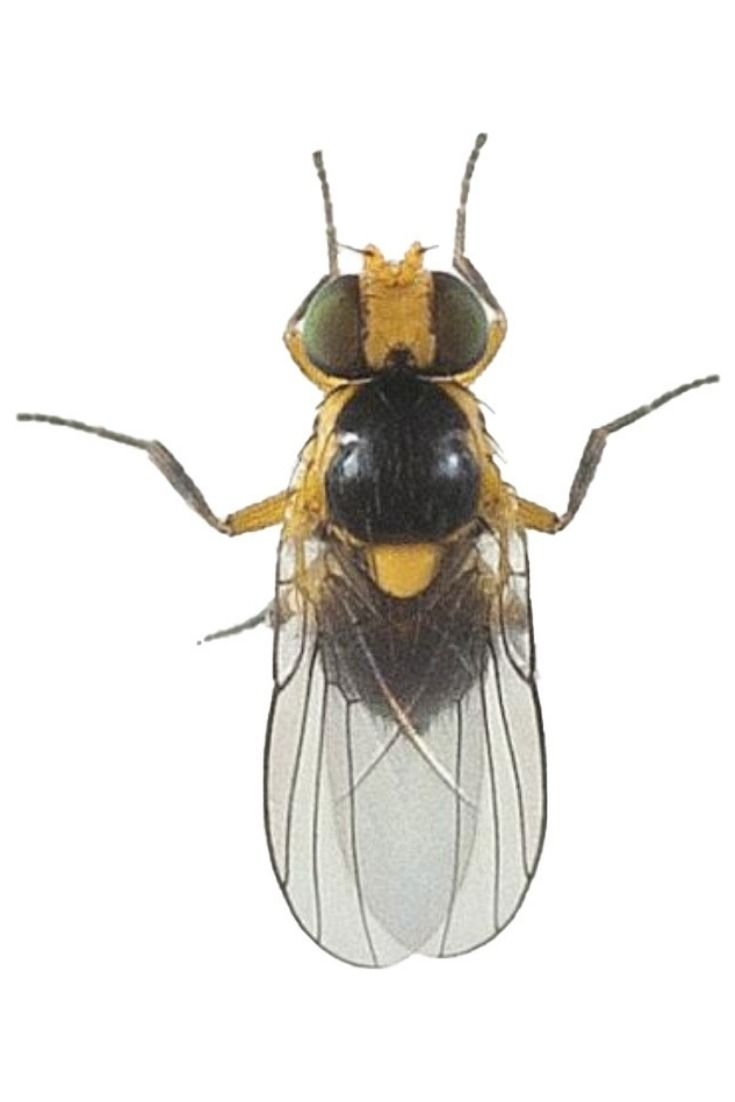Trifoli: (27, 72, 709, 977)
